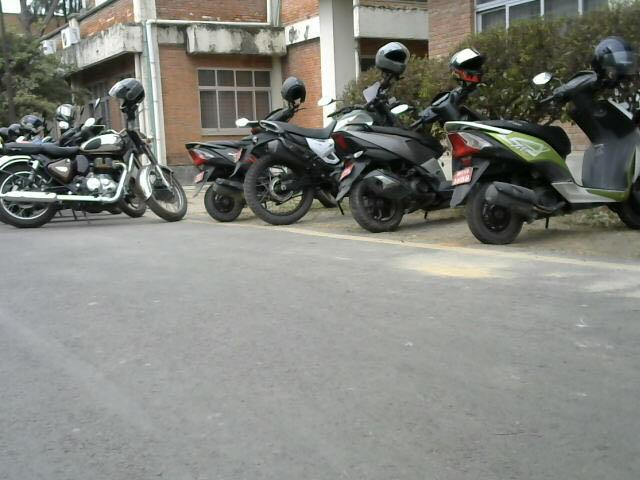Motorcycle: (219, 45, 638, 243), (0, 101, 185, 239)
Road: (9, 229, 640, 480)
